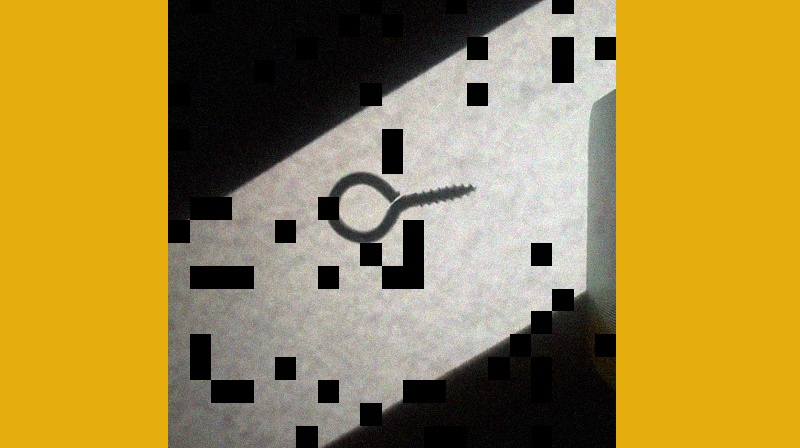O001: (324, 165, 479, 247)
